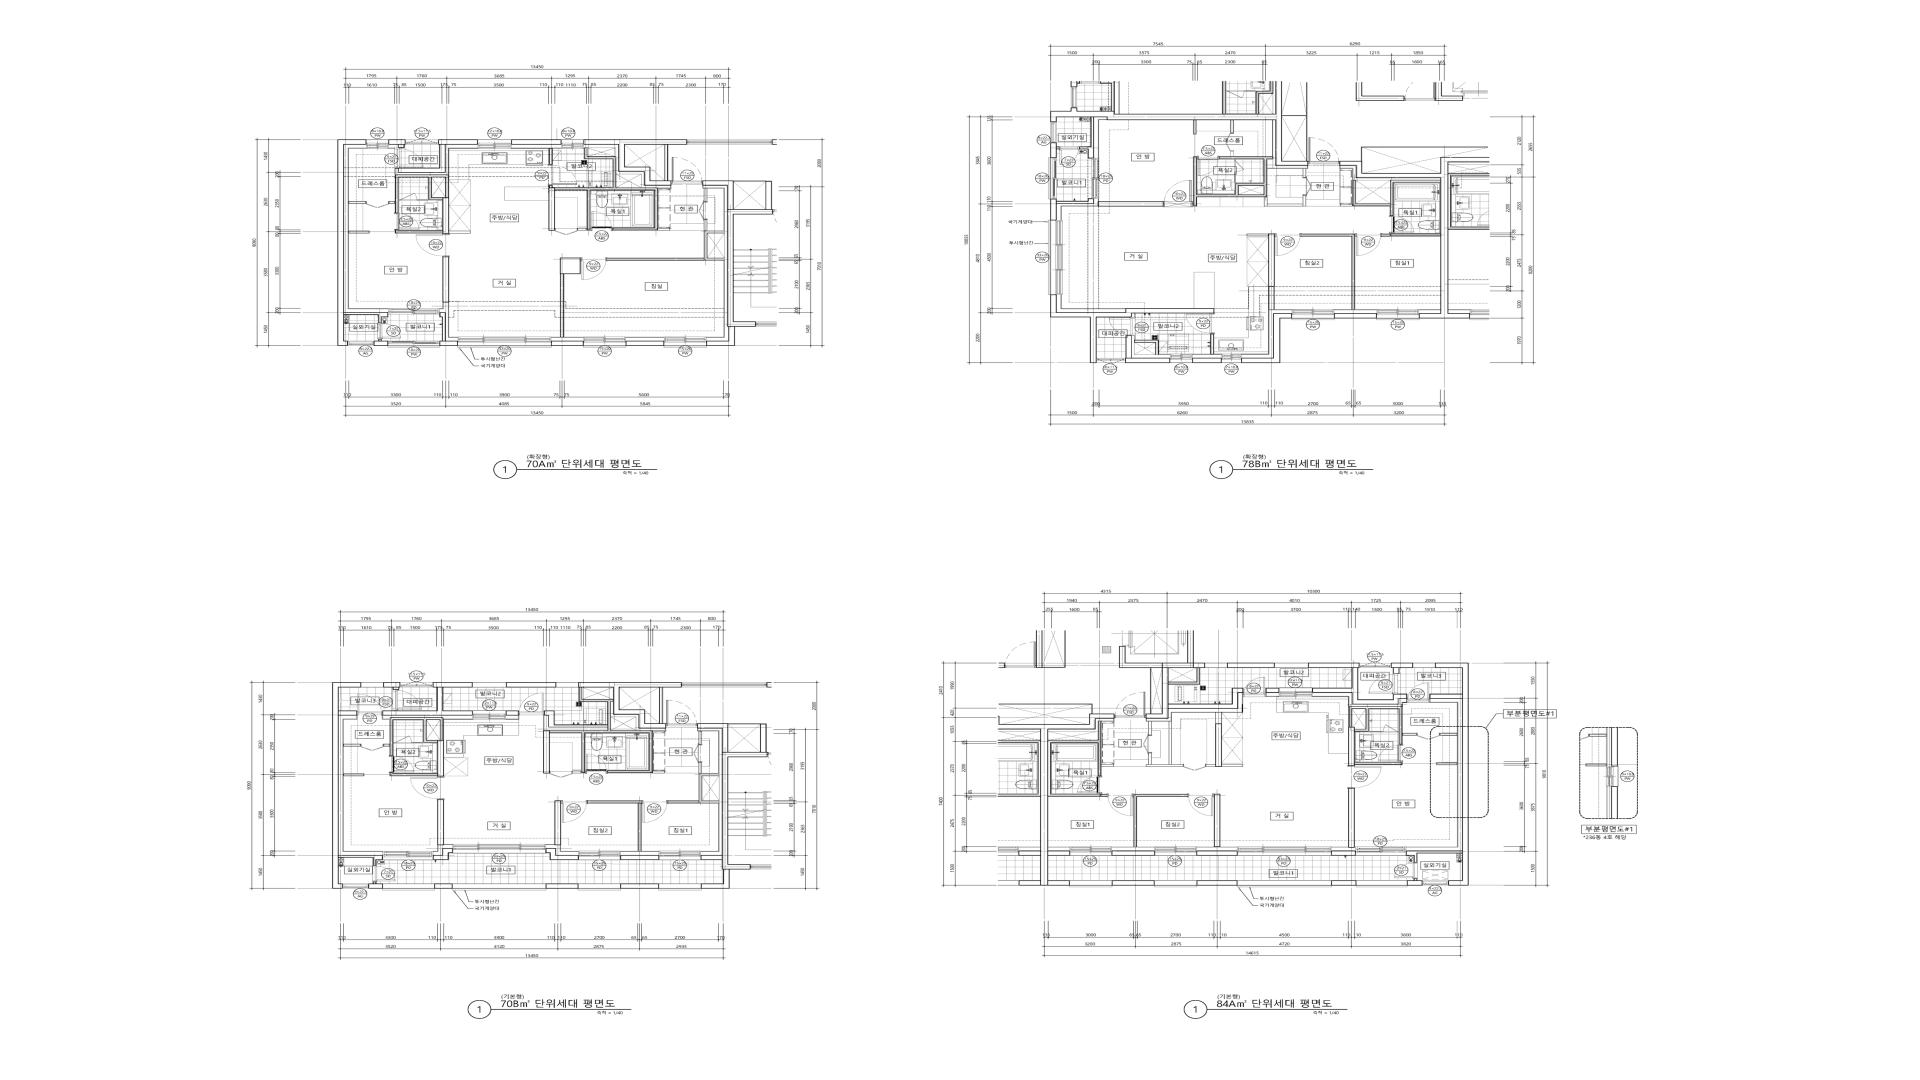door: (666, 700, 698, 728), (1308, 137, 1340, 164), (671, 157, 703, 183), (1163, 181, 1193, 207), (1114, 692, 1146, 717), (415, 233, 448, 257), (410, 777, 444, 799), (1349, 766, 1382, 789), (393, 690, 422, 711), (549, 165, 578, 186), (1369, 674, 1399, 694), (560, 800, 587, 823), (518, 692, 545, 715), (1275, 233, 1302, 256), (1356, 233, 1382, 256), (1108, 794, 1134, 816), (1188, 794, 1215, 816), (1185, 314, 1215, 334), (394, 148, 423, 167), (357, 694, 382, 716), (642, 800, 667, 823), (580, 258, 607, 280), (1109, 318, 1135, 335), (591, 211, 613, 231), (1244, 676, 1266, 696), (1407, 683, 1429, 703), (1378, 745, 1403, 762), (585, 754, 608, 773), (1197, 157, 1220, 175), (390, 756, 414, 773), (1390, 216, 1414, 233), (1077, 777, 1101, 794), (1059, 146, 1079, 165), (373, 866, 396, 882), (378, 323, 401, 339), (1395, 862, 1418, 878), (1225, 133, 1234, 152), (360, 744, 384, 750), (365, 202, 389, 208), (1416, 733, 1440, 740), (550, 771, 572, 778), (555, 228, 578, 235), (393, 736, 411, 744), (699, 202, 707, 220), (1143, 735, 1151, 753), (694, 745, 702, 762), (400, 193, 417, 200), (1303, 178, 1311, 195), (1183, 765, 1207, 770), (1234, 160, 1244, 171), (1383, 725, 1399, 732)
wall: (1051, 82, 1308, 166), (607, 186, 728, 342), (1340, 157, 1448, 319), (1406, 663, 1469, 886), (543, 682, 682, 774), (1040, 713, 1114, 886), (703, 181, 773, 345), (698, 724, 767, 889), (1051, 294, 1215, 363), (332, 682, 382, 889), (338, 140, 388, 345), (555, 145, 671, 231), (1120, 646, 1244, 719), (1406, 699, 1462, 851), (1146, 692, 1244, 766), (339, 716, 382, 856), (584, 140, 687, 186), (1302, 233, 1356, 310), (1308, 663, 1407, 704), (1193, 157, 1274, 206), (390, 717, 444, 777), (1349, 707, 1403, 766), (382, 682, 472, 716), (698, 729, 721, 856), (394, 140, 477, 175), (1134, 794, 1188, 847), (587, 800, 642, 852), (1241, 314, 1292, 363), (1241, 310, 1292, 357), (1267, 120, 1308, 178), (389, 175, 448, 214), (551, 274, 583, 342), (611, 702, 666, 731), (1340, 166, 1441, 181), (1056, 294, 1126, 313), (1312, 694, 1407, 707), (1125, 335, 1170, 363), (1282, 115, 1307, 161), (543, 715, 608, 731), (512, 145, 562, 165), (1051, 199, 1095, 220), (1131, 335, 1170, 359), (1056, 199, 1098, 220), (1048, 719, 1114, 732), (439, 302, 458, 342), (439, 313, 458, 345), (1269, 233, 1275, 310), (1095, 117, 1106, 158), (707, 233, 725, 258), (1265, 195, 1307, 206), (702, 777, 719, 800), (546, 848, 579, 860), (546, 844, 579, 856), (1168, 669, 1197, 682), (1134, 340, 1159, 355), (382, 716, 472, 720), (1097, 202, 1163, 207), (560, 257, 580, 274), (1349, 789, 1354, 848), (438, 799, 444, 845), (554, 800, 560, 845), (549, 186, 555, 231), (426, 720, 440, 740), (1352, 709, 1366, 729), (1215, 794, 1220, 847), (1216, 724, 1222, 766), (587, 148, 616, 157), (506, 682, 556, 687), (512, 140, 562, 145), (1228, 663, 1275, 669), (443, 257, 448, 302), (1391, 663, 1414, 674), (433, 848, 452, 860), (433, 844, 452, 856), (1112, 851, 1155, 856), (1335, 314, 1377, 319), (1112, 881, 1154, 886), (1196, 851, 1237, 856), (620, 851, 659, 856), (1197, 881, 1237, 886), (621, 884, 658, 889), (394, 229, 443, 233), (443, 198, 448, 233), (1112, 847, 1155, 851), (1335, 310, 1377, 314), (546, 884, 578, 889), (1196, 847, 1237, 851), (620, 856, 659, 860), (1192, 357, 1221, 363), (626, 338, 663, 342), (626, 342, 663, 345), (1050, 142, 1059, 158), (384, 682, 401, 690), (551, 342, 583, 345), (389, 140, 405, 148), (1332, 881, 1356, 886), (1407, 878, 1423, 886), (1332, 851, 1356, 856), (1192, 353, 1221, 357), (659, 687, 662, 724), (434, 884, 452, 889), (373, 339, 388, 345), (368, 882, 382, 889), (665, 145, 667, 181), (1332, 847, 1356, 851), (1419, 310, 1441, 314), (667, 800, 699, 803), (1048, 847, 1069, 851), (505, 711, 518, 716), (448, 231, 471, 233), (1150, 669, 1151, 713), (348, 231, 369, 233), (1247, 233, 1269, 236), (1230, 120, 1234, 133), (1211, 334, 1213, 353), (1266, 692, 1279, 696), (1266, 688, 1279, 692), (505, 716, 518, 720), (348, 202, 365, 204), (733, 181, 766, 182), (1193, 120, 1196, 135), (389, 145, 398, 149), (1403, 733, 1416, 736), (653, 770, 665, 773), (1222, 765, 1244, 766), (1230, 152, 1234, 157), (1340, 204, 1353, 206), (1101, 765, 1114, 766), (384, 744, 390, 746), (1131, 314, 1135, 318), (1234, 171, 1236, 183), (417, 199, 427, 200), (411, 742, 422, 744), (572, 771, 582, 773), (1207, 765, 1216, 766), (1370, 732, 1383, 732), (728, 724, 761, 724)
window: (1048, 220, 1063, 294), (458, 338, 551, 348), (1237, 847, 1332, 856), (452, 844, 546, 853), (1237, 881, 1332, 887), (452, 884, 546, 890), (1356, 847, 1406, 856), (583, 338, 626, 348), (663, 338, 707, 348), (1377, 310, 1419, 320), (1292, 310, 1335, 320), (382, 852, 433, 860), (1069, 847, 1112, 856), (1155, 847, 1196, 856), (659, 851, 700, 860), (579, 851, 620, 860), (382, 884, 435, 890), (388, 342, 440, 348), (1356, 881, 1407, 887), (1048, 158, 1056, 199), (472, 711, 506, 720), (477, 140, 512, 149), (578, 884, 621, 890), (658, 884, 702, 890), (1154, 881, 1197, 887), (1069, 881, 1112, 887), (388, 309, 439, 314), (1092, 158, 1098, 199), (1279, 688, 1312, 696), (405, 138, 438, 145), (562, 140, 584, 149), (1170, 353, 1192, 363), (367, 140, 389, 149), (1221, 353, 1241, 363), (472, 682, 506, 687), (1275, 663, 1308, 669), (400, 682, 433, 687), (1360, 662, 1391, 667), (1097, 359, 1125, 364), (343, 884, 368, 889), (361, 682, 384, 687), (556, 682, 579, 687), (1051, 123, 1056, 142), (348, 342, 373, 345), (1423, 881, 1448, 885), (1205, 663, 1228, 667), (1414, 663, 1435, 667)
